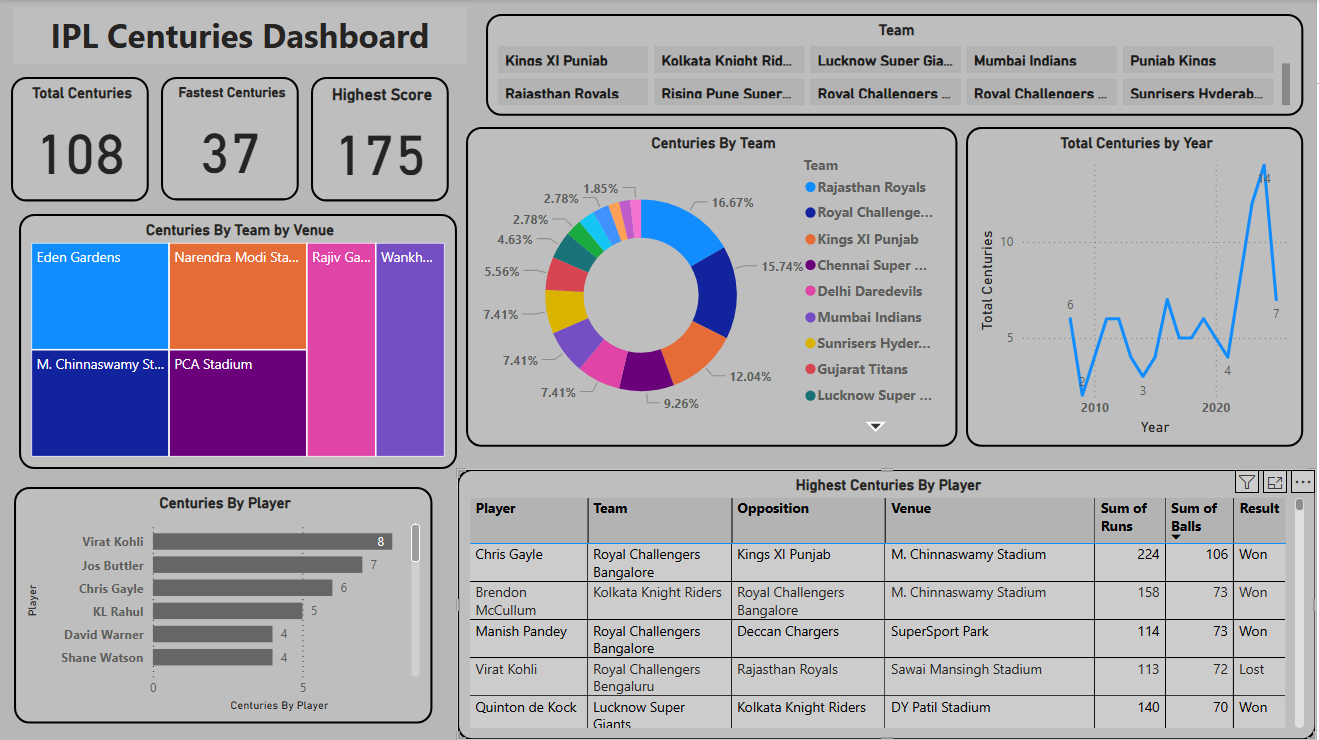

The dashboard page shown, as its layout file describes it:
{"tool":"powerbi","page":{"name":"Page 1","canvas":[1280,720],"ordinal":0},"visuals":[{"type":"card","title":"Total Centuries","fields":{"Values":["ipl_centuries.Total Centuries"]},"box":[10.7,74.9,134.2,120.6],"z":0},{"type":"card","title":"Highest Score","fields":{"Values":["ipl_centuries.Highest Score"]},"box":[302.5,74.9,134.2,120.6],"z":1000},{"type":"card","title":"Fastest Centuries","fields":{"Values":["ipl_centuries.Fastest Centuries (Balls)"]},"box":[156.6,74.9,134.2,119.6],"z":2000},{"type":"barChart","title":"Centuries By Player","fields":{"Category":["ipl_centuries.Player"],"Y":["ipl_centuries.Centuries By Player"]},"box":[13.6,473.7,406.6,229.5],"z":3000},{"type":"lineChart","fields":{"Category":["ipl_centuries.Year"],"Y":["ipl_centuries.Total Centuries"]},"box":[939.6,123.5,327.8,311.2],"z":4000},{"type":"donutChart","title":"Centuries By Team","fields":{"Y":["ipl_centuries.Centuries By Team"],"Category":["ipl_centuries.Team"]},"box":[453.3,123.5,477.6,311.2],"z":5000},{"type":"tableEx","title":"Highest Centuries By Player","fields":{"Values":["ipl_centuries.Player","ipl_centuries.Team","ipl_centuries.Opposition","ipl_centuries.Venue","ipl_centuries.Runs","ipl_centuries.Balls","ipl_centuries.Result"]},"box":[444.5,456.2,835.5,263.6],"z":6000},{"type":"treemap","fields":{"Group":["ipl_centuries.Venue"],"Values":["ipl_centuries.Centuries By Team"]},"box":[18.5,208.1,426,248],"z":7000},{"type":"textbox","box":[13.6,6.8,439.6,56.4],"z":8000},{"type":"advancedSlicerVisual","fields":{"Values":["ipl_centuries.Team"]},"box":[472.7,13.6,794.7,99.2],"z":9000}]}

Visuals, with their boxes in screenshot pixels (x1, y1, x2, y2), scaled from the page's 1280x720 canvas onto the 1319x740 screenshot:
"Total Centuries" card: bbox(11, 77, 149, 201)
"Highest Score" card: bbox(312, 77, 450, 201)
"Fastest Centuries" card: bbox(161, 77, 300, 200)
"Centuries By Player" barChart: bbox(14, 487, 433, 723)
lineChart - ipl_centuries.Year x ipl_centuries.Total Centuries: bbox(968, 127, 1306, 447)
"Centuries By Team" donutChart: bbox(467, 127, 959, 447)
"Highest Centuries By Player" tableEx: bbox(458, 469, 1318, 739)
treemap - ipl_centuries.Venue x ipl_centuries.Centuries By Team: bbox(19, 214, 458, 469)
textbox: bbox(14, 7, 467, 65)
advancedSlicerVisual - ipl_centuries.Team: bbox(487, 14, 1306, 116)
